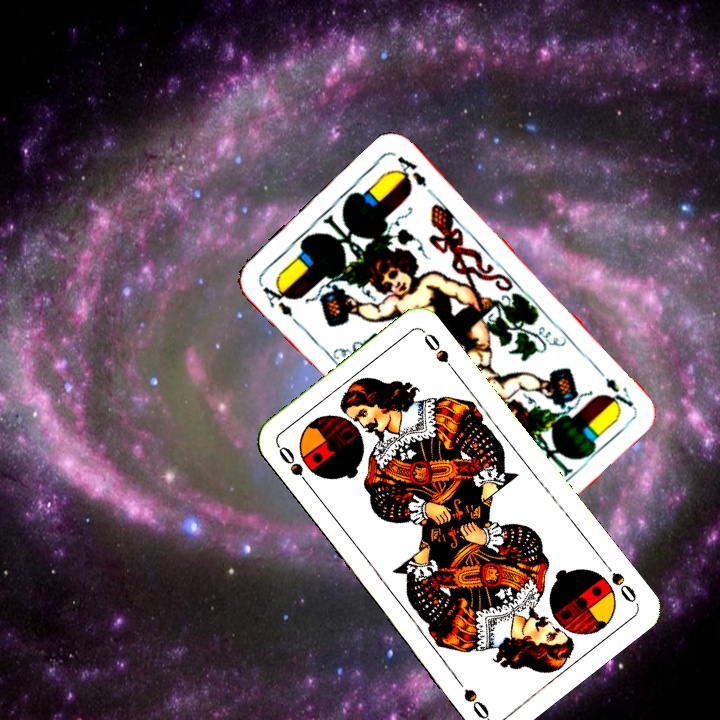EA: (256, 278, 295, 320), (601, 374, 636, 412)
SO: (598, 556, 640, 607), (274, 442, 315, 492)
